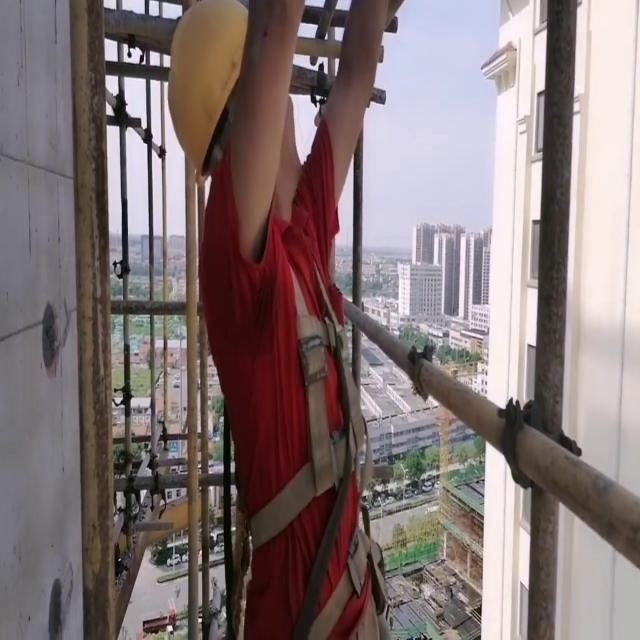Arnes_seguridad: (203, 199, 373, 558)
